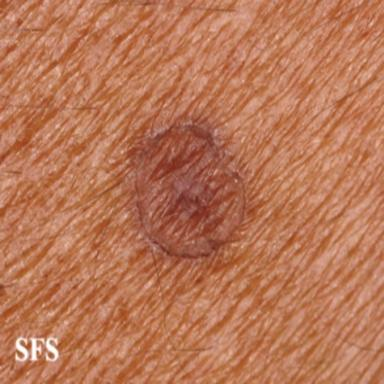Porokeratosis: (136, 124, 245, 256)
